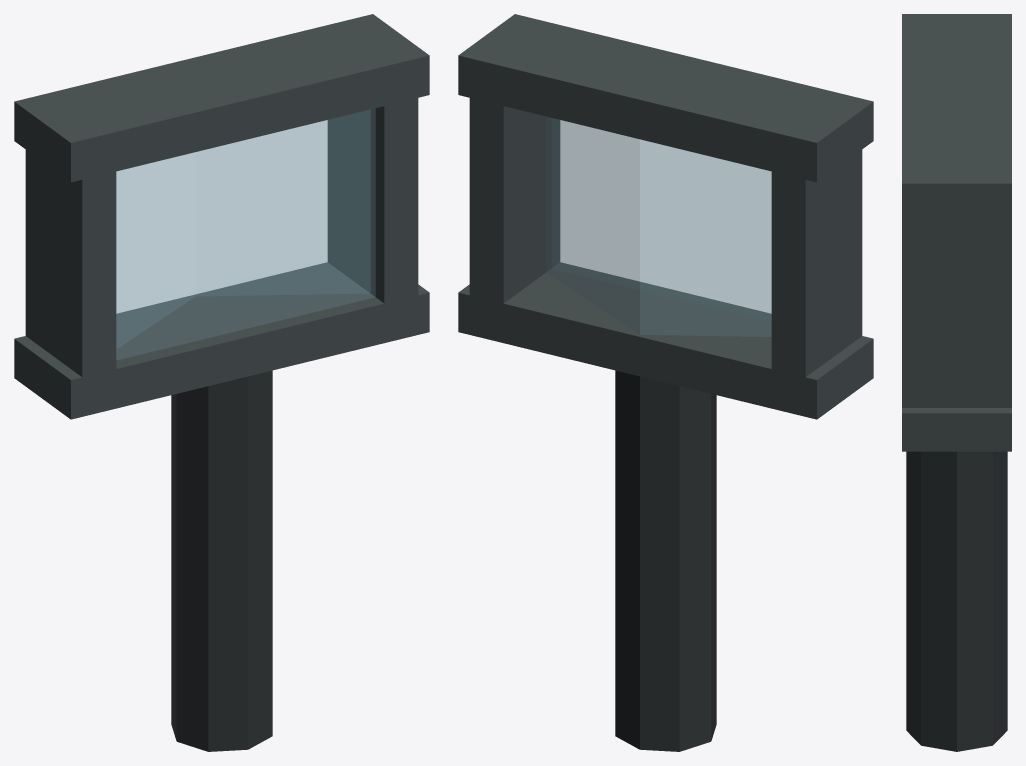
File: blender_spectral_prism_1.glb
3 renders of one model, left to right at view 1: azimuth 30°, elevation 25°; view 2: azimuth 150°, elevation 25°; view 3: azimuth 270°, elevation 25°, orthographic. The views are drawn at different scales.
Visible parts, largest first — view 1: blender_spectral_prism_1; view 2: blender_spectral_prism_1; view 3: blender_spectral_prism_1.
Part boxes in pixels (x1,y1,x2,y2): blender_spectral_prism_1: (14,14,429,751); blender_spectral_prism_1: (458,14,873,751); blender_spectral_prism_1: (902,14,1011,751).
Bounding box in the file's own units: 0.095 × 0.165 × 0.026.
2 materials, 2 textured.
